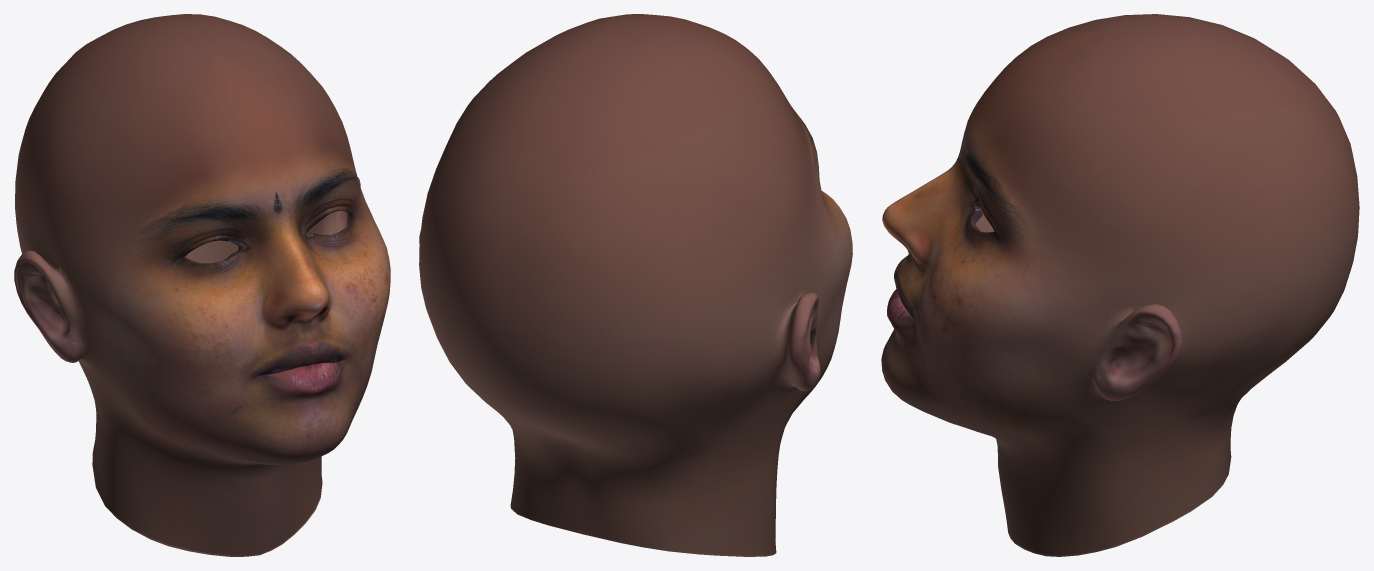
3 renders of one model, left to right at view 1: azimuth 30°, elevation 25°; view 2: azimuth 150°, elevation 25°; view 3: azimuth 270°, elevation 25°, orthographic. The views are drawn at different scales.
Parts seen in each view (by area): view 1: FaceGen; view 2: FaceGen; view 3: FaceGen.
Boxes of the visible parts, x1=… form: FaceGen: x1=14, y1=14, x2=390, y2=556; FaceGen: x1=419, y1=14, x2=852, y2=556; FaceGen: x1=881, y1=14, x2=1359, y2=556.
Bounding box in the file's own units: 206 × 279 × 240.
1 material, 1 textured.
